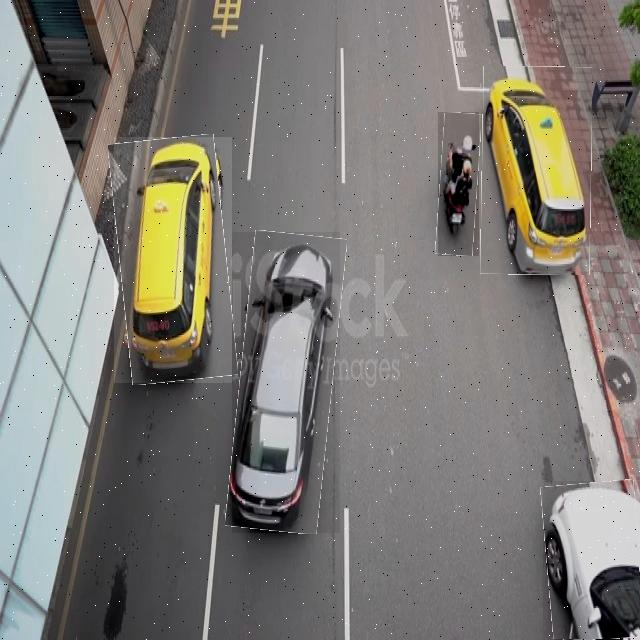Car: (232, 232, 340, 533), (114, 137, 232, 383), (481, 66, 592, 275), (543, 481, 640, 640)
Motorcycle: (438, 112, 479, 256)
